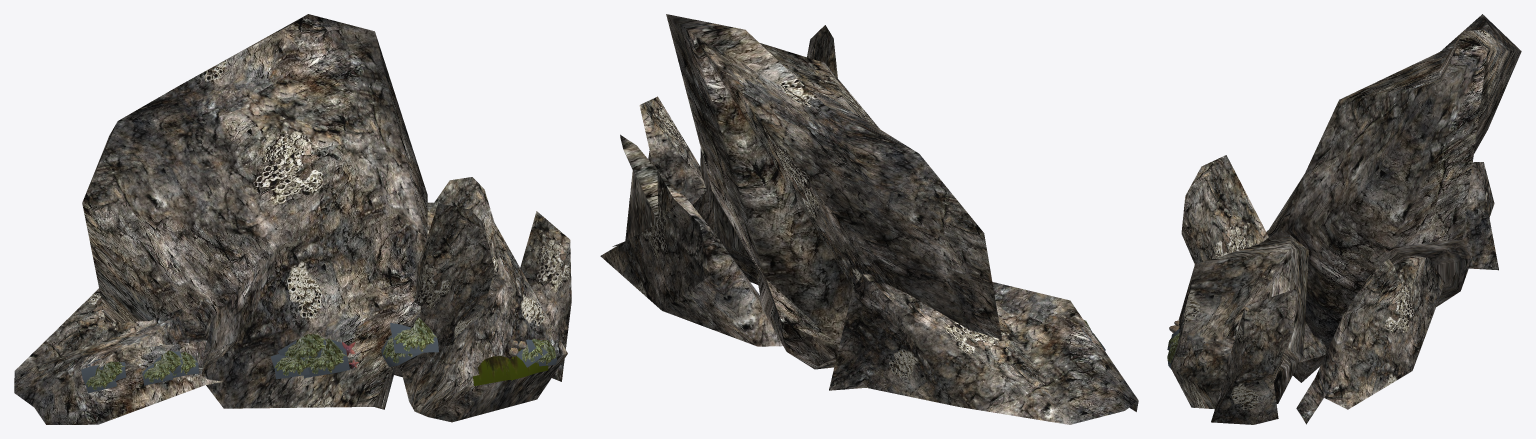
Rendered from pir_m_prp_dvj_rockGroup_b.fbx.
3 views of the same model, side by side, from view 1: azimuth 30°, elevation 25°; view 2: azimuth 150°, elevation 25°; view 3: azimuth 270°, elevation 25° (orthographic). The views are drawn at different scales.
Visible parts, largest first — view 1: bigrock2, small_rock4, bigrock, small_rock3, small_rock5, rock1, seaweed18, seaweed15, seaweed7, seaweed14, seaweed16, seaweed10 (+2 smaller); view 2: bigrock2, small_rock4, rock1, small_rock5, bigrock, small_rock3; view 3: bigrock2, bigrock, rock1, small_rock5, small_rock3, small_rock4.
Part boxes in pixels (x1=…): bigrock2: x1=82, y1=14, x2=427, y2=409; small_rock4: x1=14, y1=288, x2=223, y2=424; bigrock: x1=399, y1=212, x2=567, y2=422; small_rock3: x1=393, y1=203, x2=494, y2=377; small_rock5: x1=520, y1=211, x2=571, y2=381; rock1: x1=427, y1=177, x2=494, y2=234; seaweed18: x1=390, y1=317, x2=438, y2=353; seaweed15: x1=300, y1=338, x2=349, y2=378; seaweed7: x1=473, y1=356, x2=513, y2=385; seaweed14: x1=278, y1=334, x2=325, y2=357; seaweed16: x1=271, y1=354, x2=309, y2=379; seaweed10: x1=81, y1=365, x2=116, y2=393; bigrock2: x1=666, y1=14, x2=1001, y2=369; small_rock4: x1=829, y1=274, x2=1138, y2=424; rock1: x1=600, y1=134, x2=782, y2=346; small_rock5: x1=639, y1=96, x2=706, y2=204; bigrock: x1=692, y1=148, x2=758, y2=284; small_rock3: x1=807, y1=25, x2=837, y2=77; bigrock2: x1=1262, y1=14, x2=1521, y2=382; bigrock: x1=1171, y1=234, x2=1308, y2=409; rock1: x1=1296, y1=256, x2=1444, y2=424; small_rock5: x1=1211, y1=288, x2=1296, y2=424; small_rock3: x1=1181, y1=155, x2=1327, y2=362; small_rock4: x1=1462, y1=162, x2=1498, y2=270.
Size of the model in its own units: 4532 by 2925 by 2754.
Materials: 3 (3 with a texture image).
